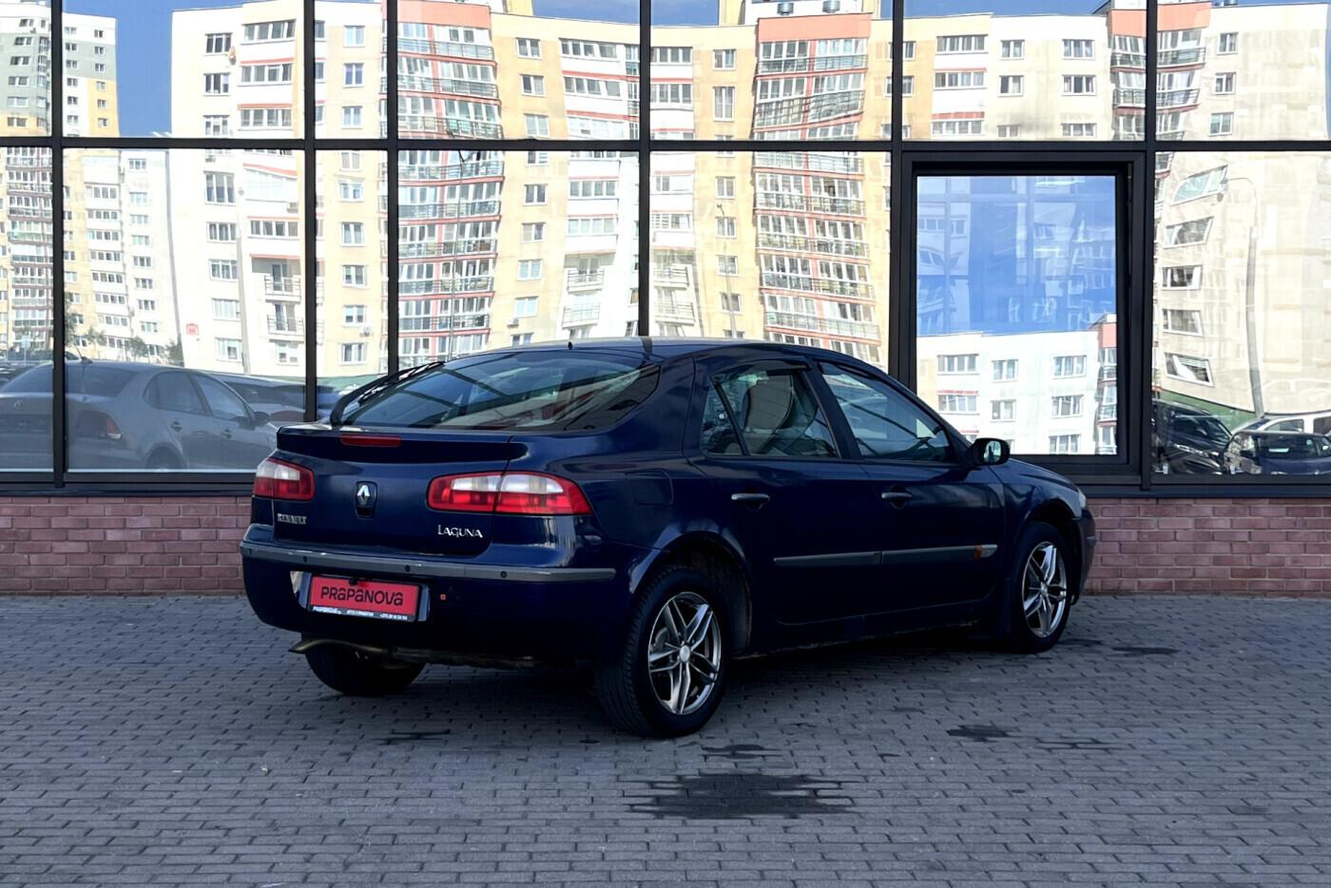Laguna_2001-2005: (241, 339, 1095, 736)
